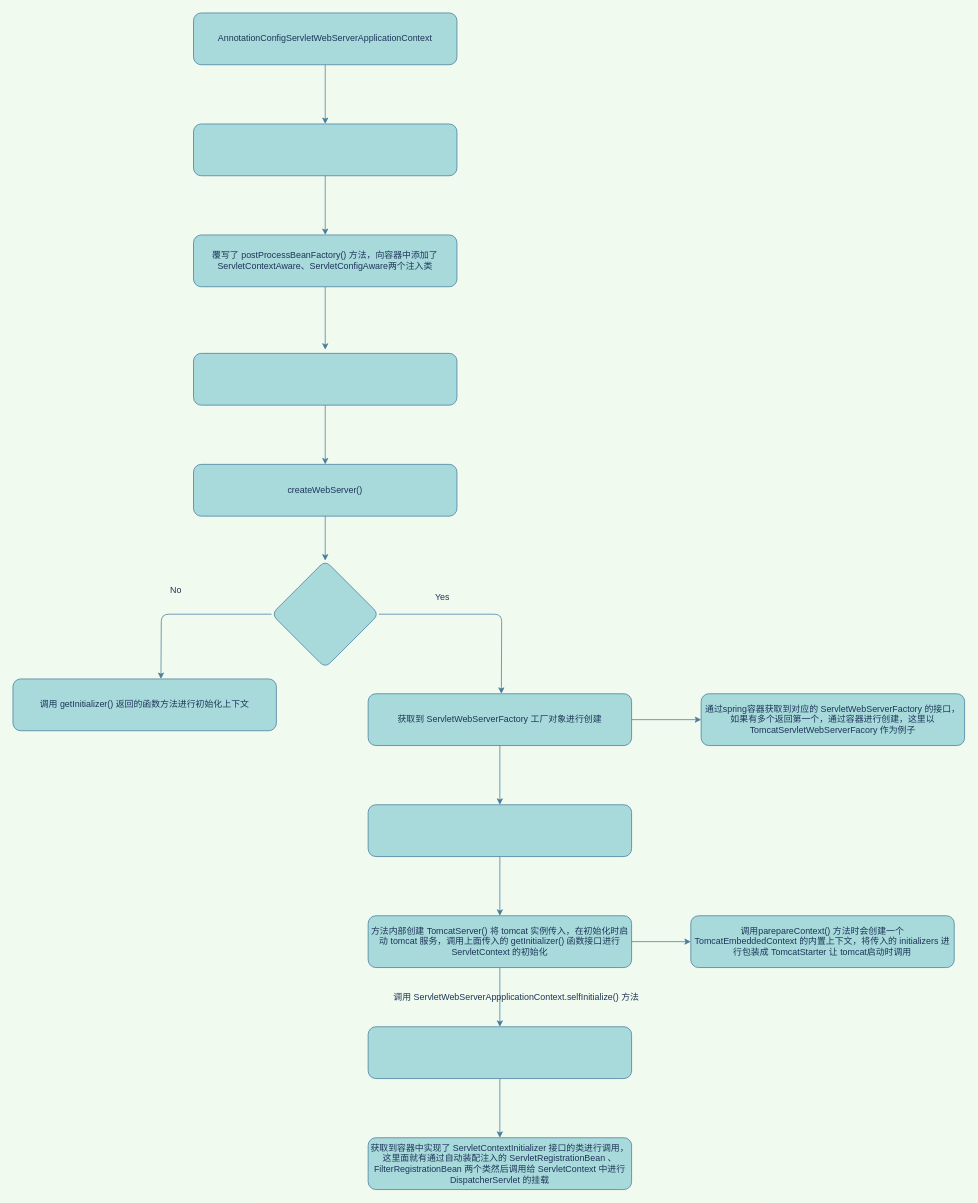
Some shapes in this 978 by 1203 pixel diagram are drawn without their labels. Here are the shapes that lost their labels. From the top down, the centre of each, then its label:
[325,149]: 调用父类 AbstractApplicationContext.refresh() 方法开始扫描注册 Bean
[325,379]: ServletWebServerApplicationContext 覆写了 onRefresh() 方法，通过当前方法创建 WebServer
[325,614]: 获取到 ServletContext 是否为空
[499,830]: 调用 ServletWebServerFactory.getWebServer()
[499,1052]: 将传入的 ServletContext 进行初始化的赋值，注册上下文的应用生命周期范围，将山下文一下配置注入到单例池中
